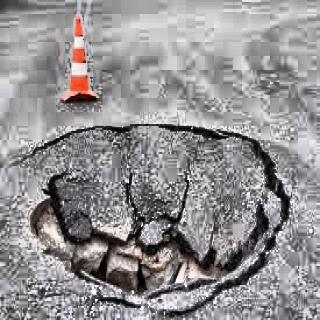pothole: (16, 117, 279, 317)
